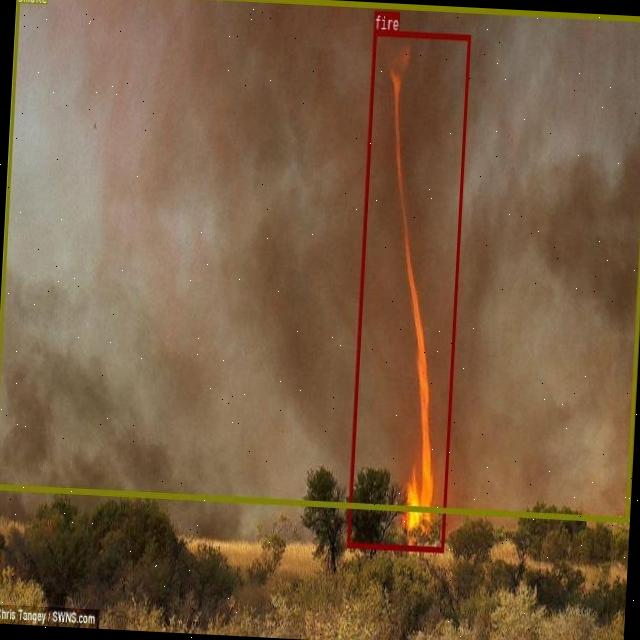fire: (346, 29, 470, 550)
smoke: (0, 0, 640, 522)
